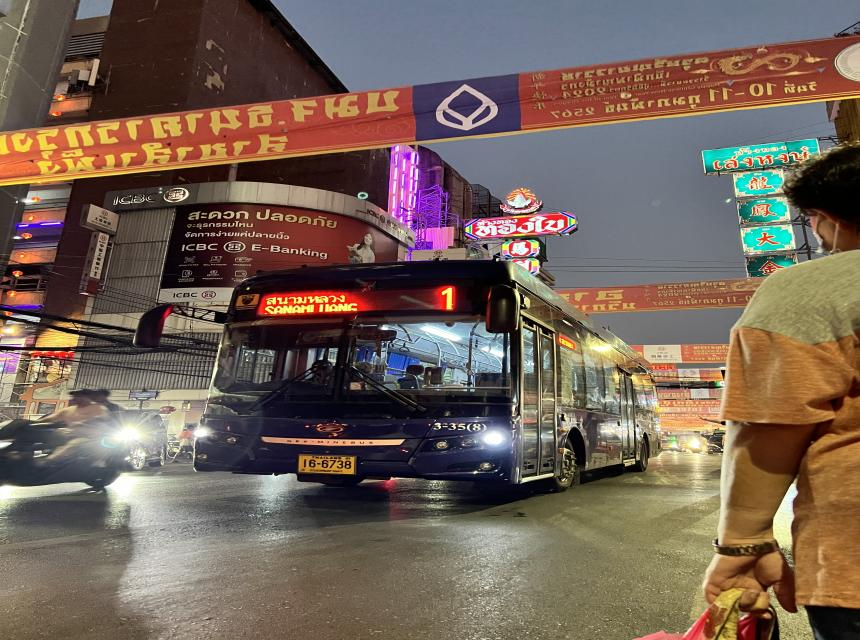Bus Line Number: (423, 281, 475, 315)
Bus Side Number: (424, 419, 495, 433)
Destination Sign: (261, 286, 369, 319)
TSB-Bus: (185, 259, 663, 490)
